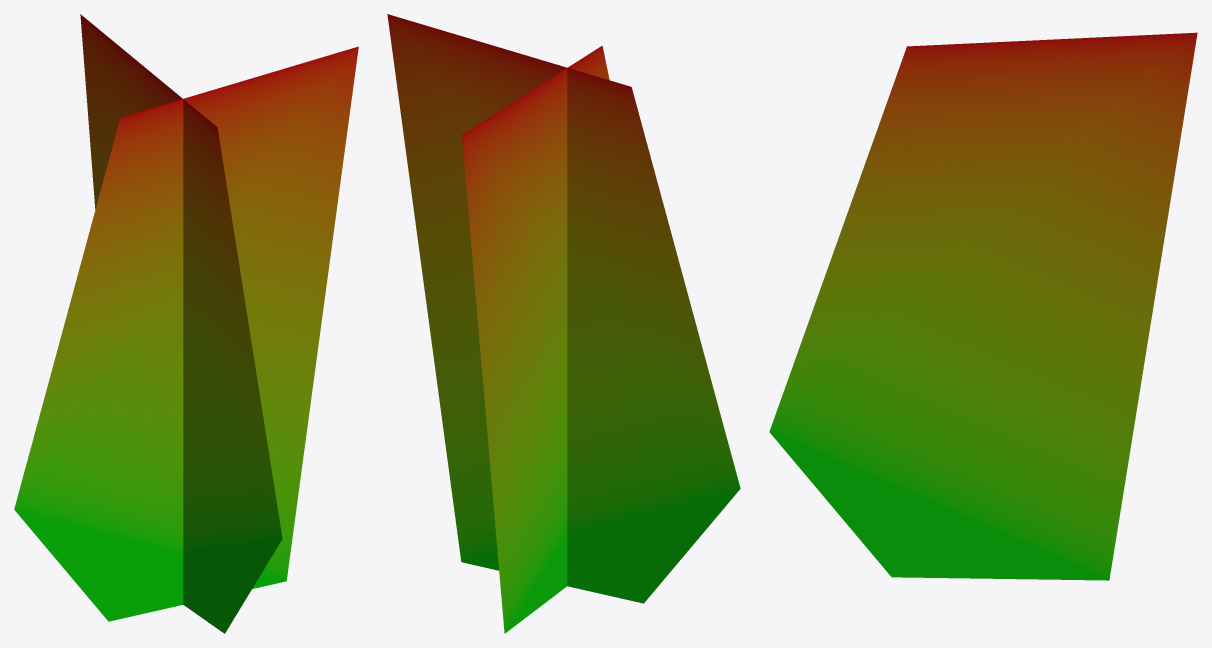
Rendered from Dead Shrubs_LOD4_Var1_vdknbbuha.fbx.
The picture shows the model from 3 angles, left to right: view 1: azimuth 30°, elevation 25°; view 2: azimuth 150°, elevation 25°; view 3: azimuth 270°, elevation 25°; orthographic projection. The views are drawn at different scales.
Parts seen in each view (by area): view 1: _939d_Var1_LOD4; view 2: _939d_Var1_LOD4; view 3: _939d_Var1_LOD4.
Part boxes in pixels (x1=…): _939d_Var1_LOD4: x1=14, y1=14, x2=358, y2=633; _939d_Var1_LOD4: x1=387, y1=14, x2=740, y2=633; _939d_Var1_LOD4: x1=769, y1=32, x2=1197, y2=580.
Size of the model in its own units: 23.02 by 33.01 by 23.39.
